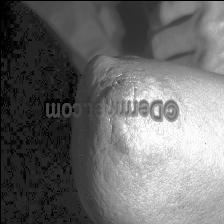Unclassified: (90, 107, 134, 198), (86, 166, 119, 222)
